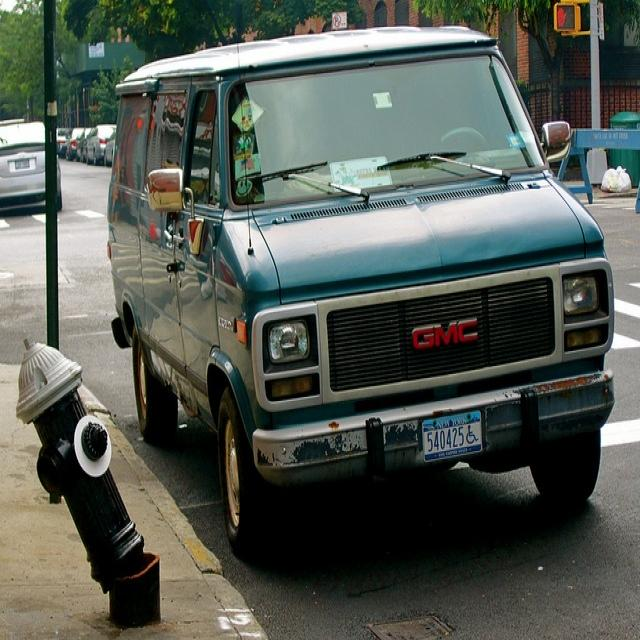car: (105, 23, 613, 559), (0, 118, 60, 214), (84, 122, 114, 162), (64, 126, 83, 158), (76, 124, 90, 160), (55, 126, 70, 155), (102, 135, 113, 163)
fire_hydrant: (15, 338, 164, 625)
pole: (37, 0, 68, 343), (585, 0, 609, 128)
truck: (108, 22, 617, 559)
